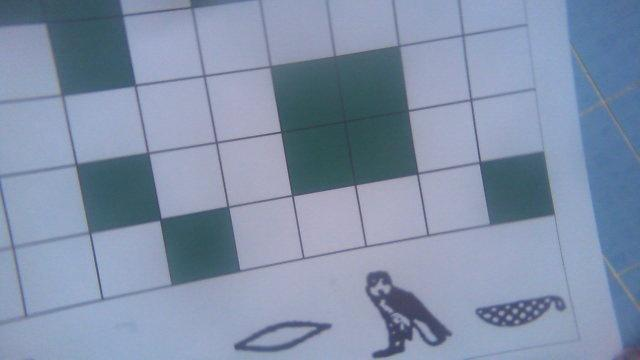Basket: (470, 294, 567, 328)
Mouth: (230, 317, 339, 356)
Owl: (360, 269, 457, 360)
